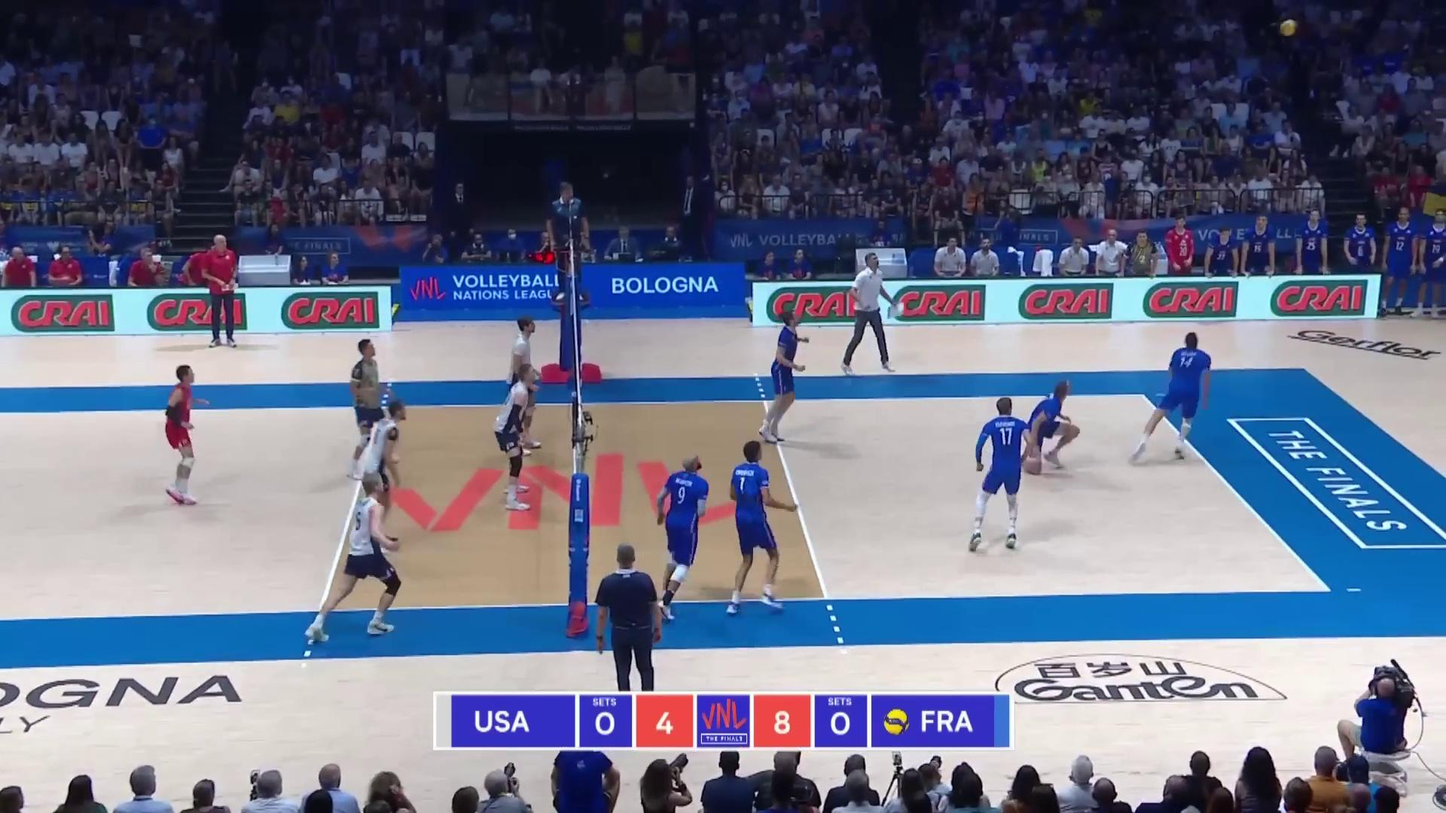player: (301, 473, 403, 647), (727, 441, 805, 617), (1133, 334, 1212, 462), (968, 397, 1029, 552), (656, 453, 708, 620), (355, 399, 410, 549), (341, 339, 401, 472), (491, 365, 541, 511), (758, 313, 807, 444), (1016, 379, 1080, 474), (508, 318, 544, 455), (163, 364, 198, 504)
refree: (594, 544, 662, 692), (545, 181, 587, 304)
